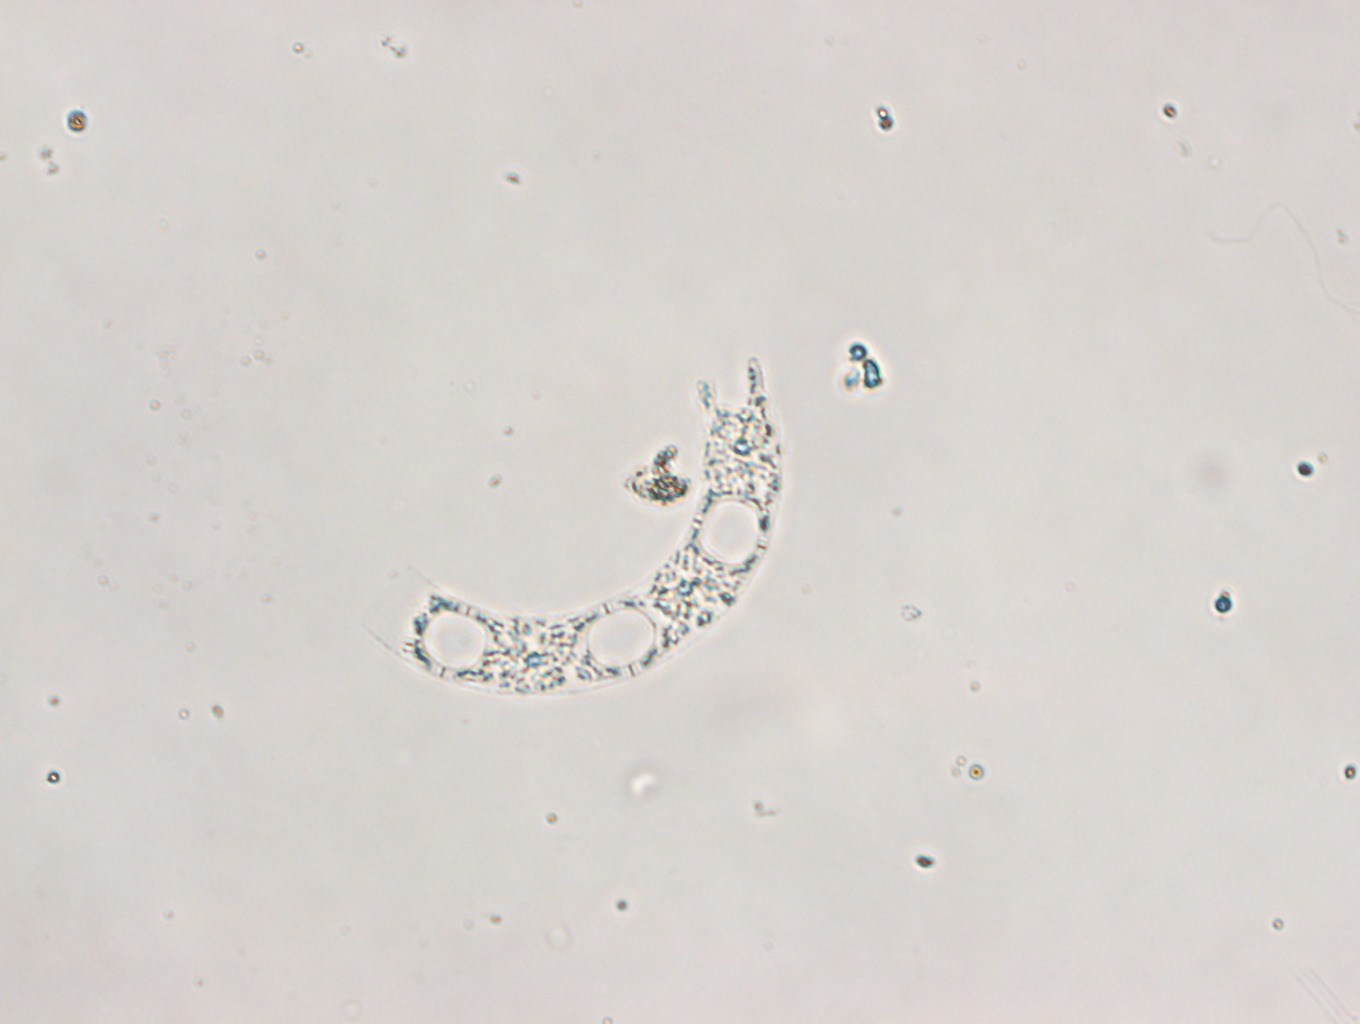eucampia: (367, 356, 781, 696)
